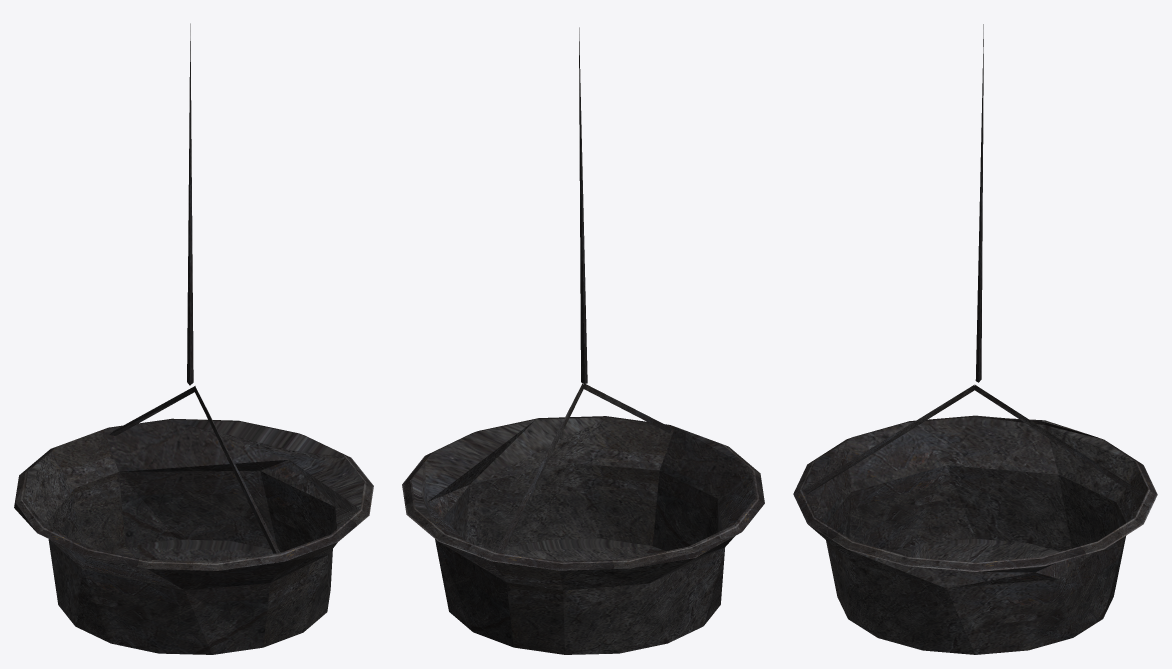
Rendered from tavern_cooker_LOD2.dae.
The picture shows the model from 3 angles, left to right: view 1: azimuth 30°, elevation 25°; view 2: azimuth 150°, elevation 25°; view 3: azimuth 270°, elevation 25°; orthographic projection.
Visible parts, largest first — view 1: Default_Layer; view 2: Default_Layer; view 3: Default_Layer.
Boxes of the visible parts, x1,y1,x2,y2 form: Default_Layer: (14, 23, 373, 654); Default_Layer: (402, 27, 764, 654); Default_Layer: (793, 24, 1157, 654).
Size of the model in its own units: 6.18 by 11.29 by 6.18.
